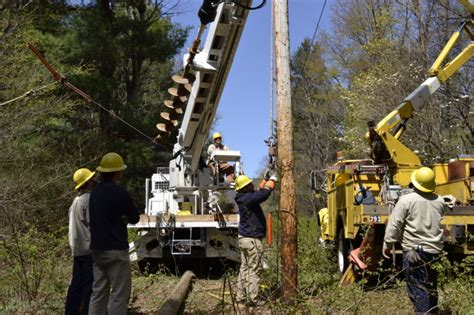pole: (255, 2, 333, 307)
